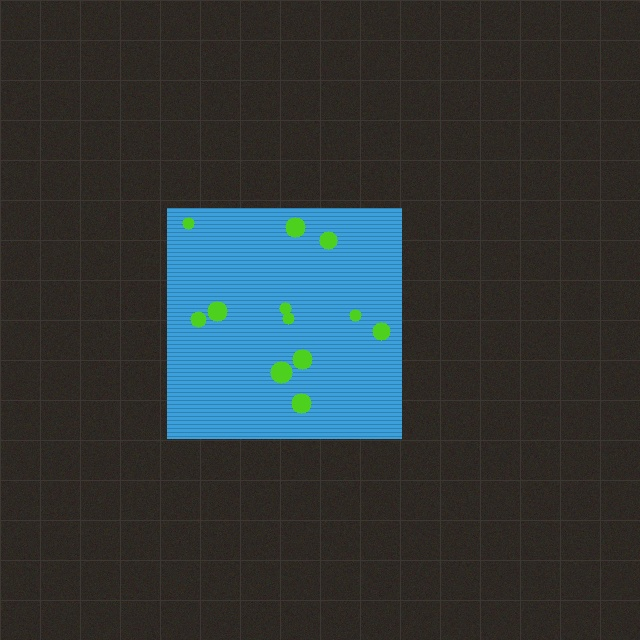over_extrusion: (162, 203, 406, 443)
